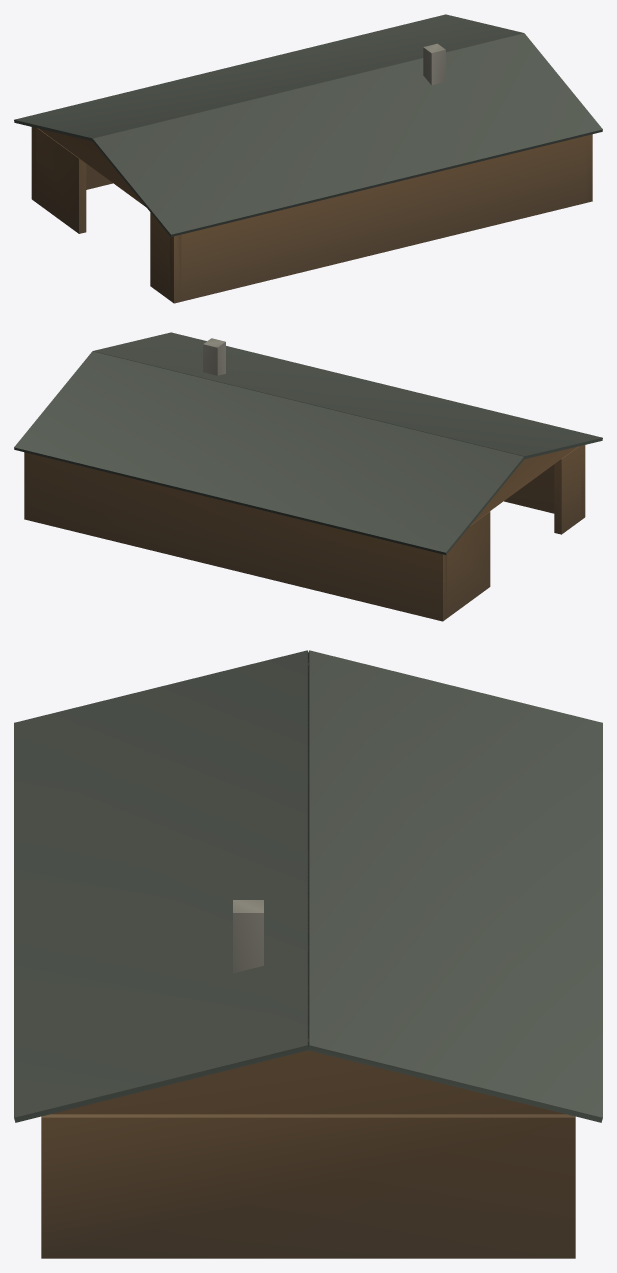
File: m01_rail_shed_intact_lod2.glb
3 views of the same model, one above another, from view 1: azimuth 30°, elevation 25°; view 2: azimuth 150°, elevation 25°; view 3: azimuth 270°, elevation 25° (orthographic). The views are drawn at different scales.
Visible parts, largest first — view 1: rail_shed; view 2: rail_shed; view 3: rail_shed.
Boxes of the visible parts, bbox=[...] form: rail_shed: bbox=[14, 14, 602, 303]; rail_shed: bbox=[14, 332, 602, 621]; rail_shed: bbox=[14, 650, 602, 1258].
Size of the model in its own units: 21 by 6.4 by 13.23.
